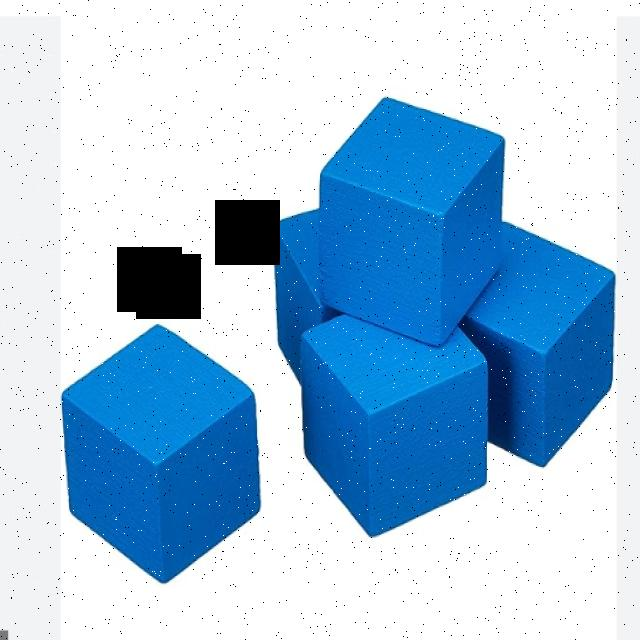bluecube: (60, 322, 262, 584), (320, 95, 505, 347), (300, 313, 488, 539), (457, 221, 616, 469), (273, 206, 342, 389)
